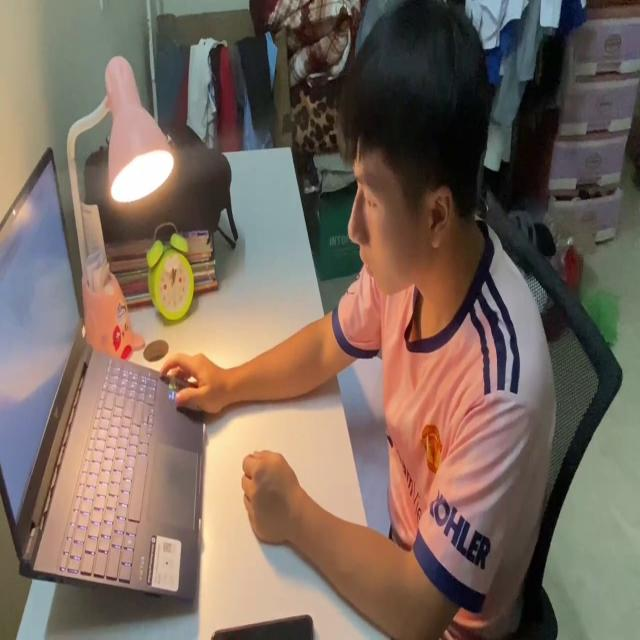book: (337, 349, 394, 537)
laptop: (0, 136, 205, 613)
phone: (213, 609, 314, 640)
student: (163, 10, 553, 635)
